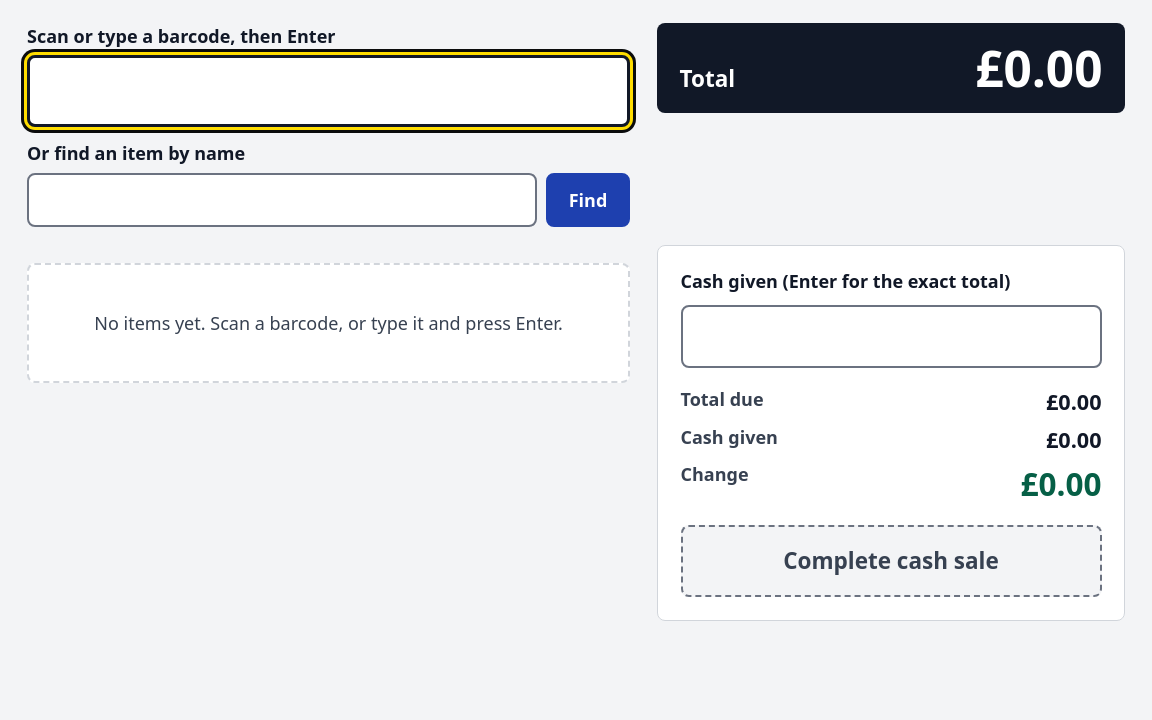
it: problems, by whose they are (UX-59, UX-11, UX-57) › UX-59, UX-57: a lost network is a system problem too, and the cart stays
Type "012345678905" into the field labelled "Scan or type a barcode, then Enter" at [328, 91], box [27, 55, 630, 127]
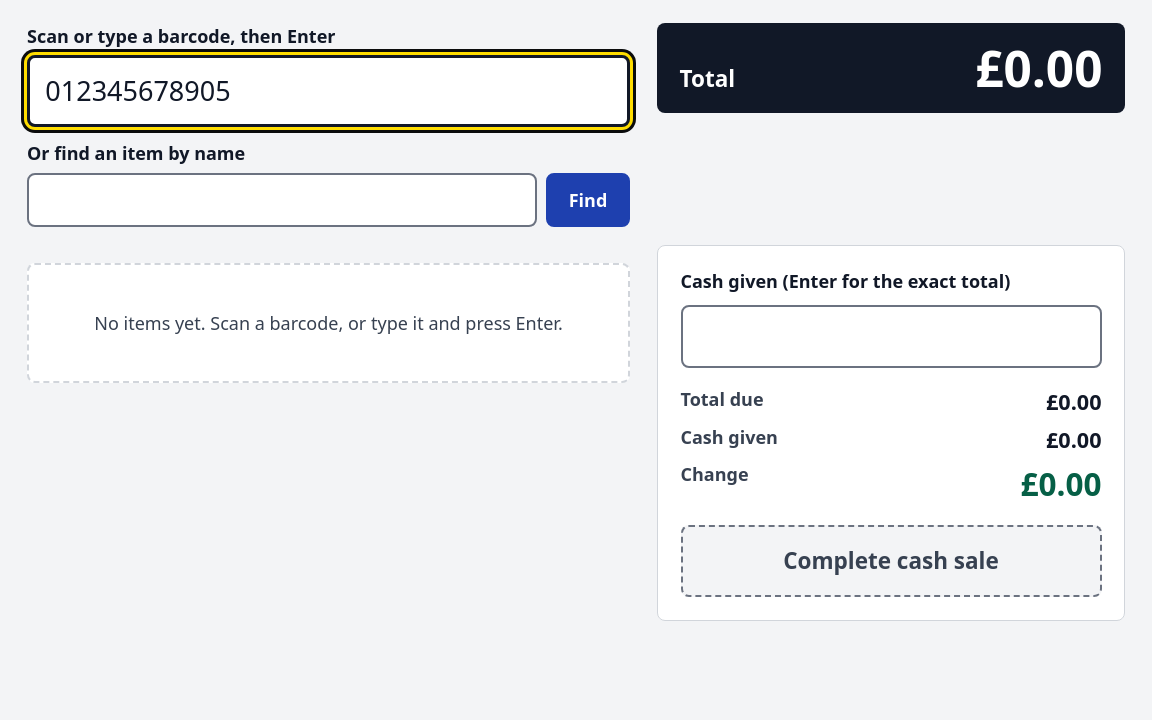
Submit the form labelled "Scan or type a barcode, then Enter", box [27, 22, 630, 127]
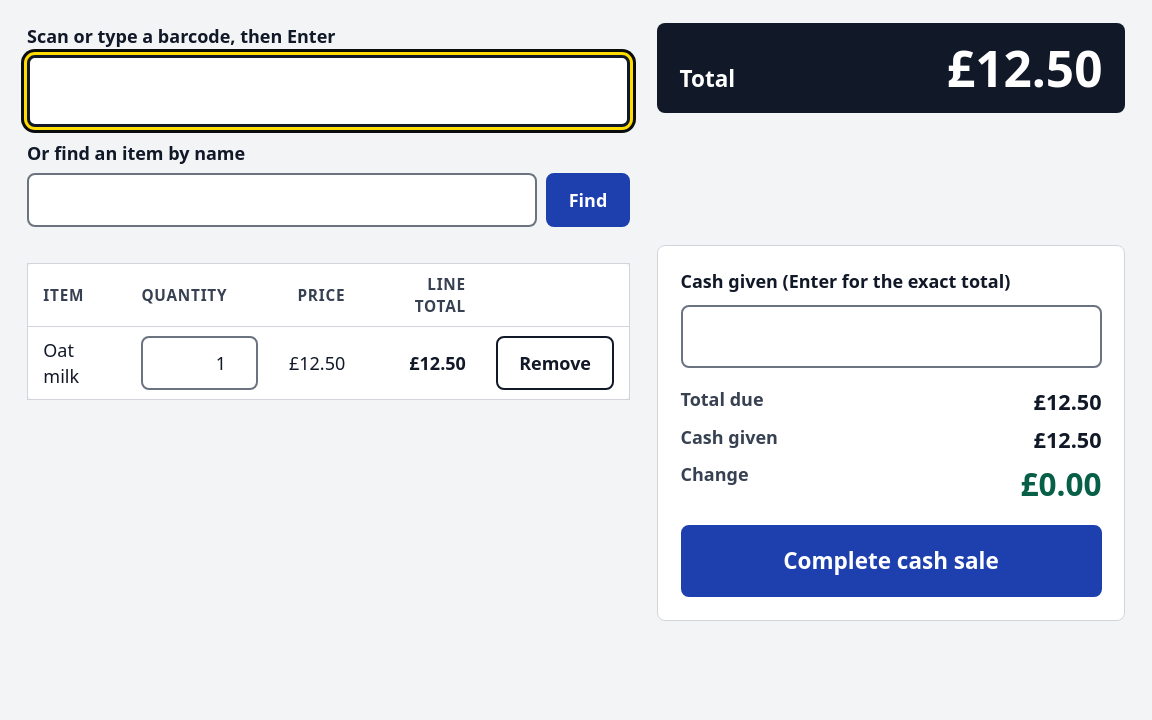
Expected: the row with test id "cart-line" is shown, [28, 327, 630, 400]
Submit the form named "Payment", box [657, 245, 1125, 621]
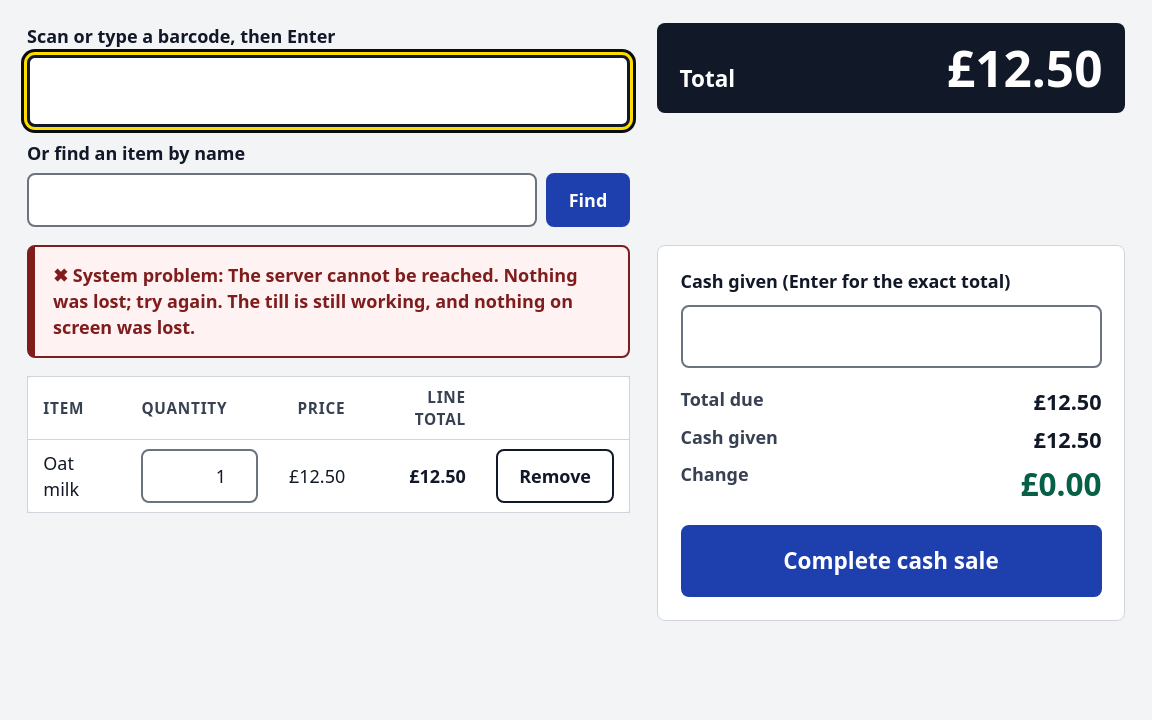
Expected: the number of rows with test id "cart-line" is 1, [28, 440, 630, 512]
Expected: the message shows "The server cannot be reached. Nothing was lost; try again.", [53, 263, 578, 313]
